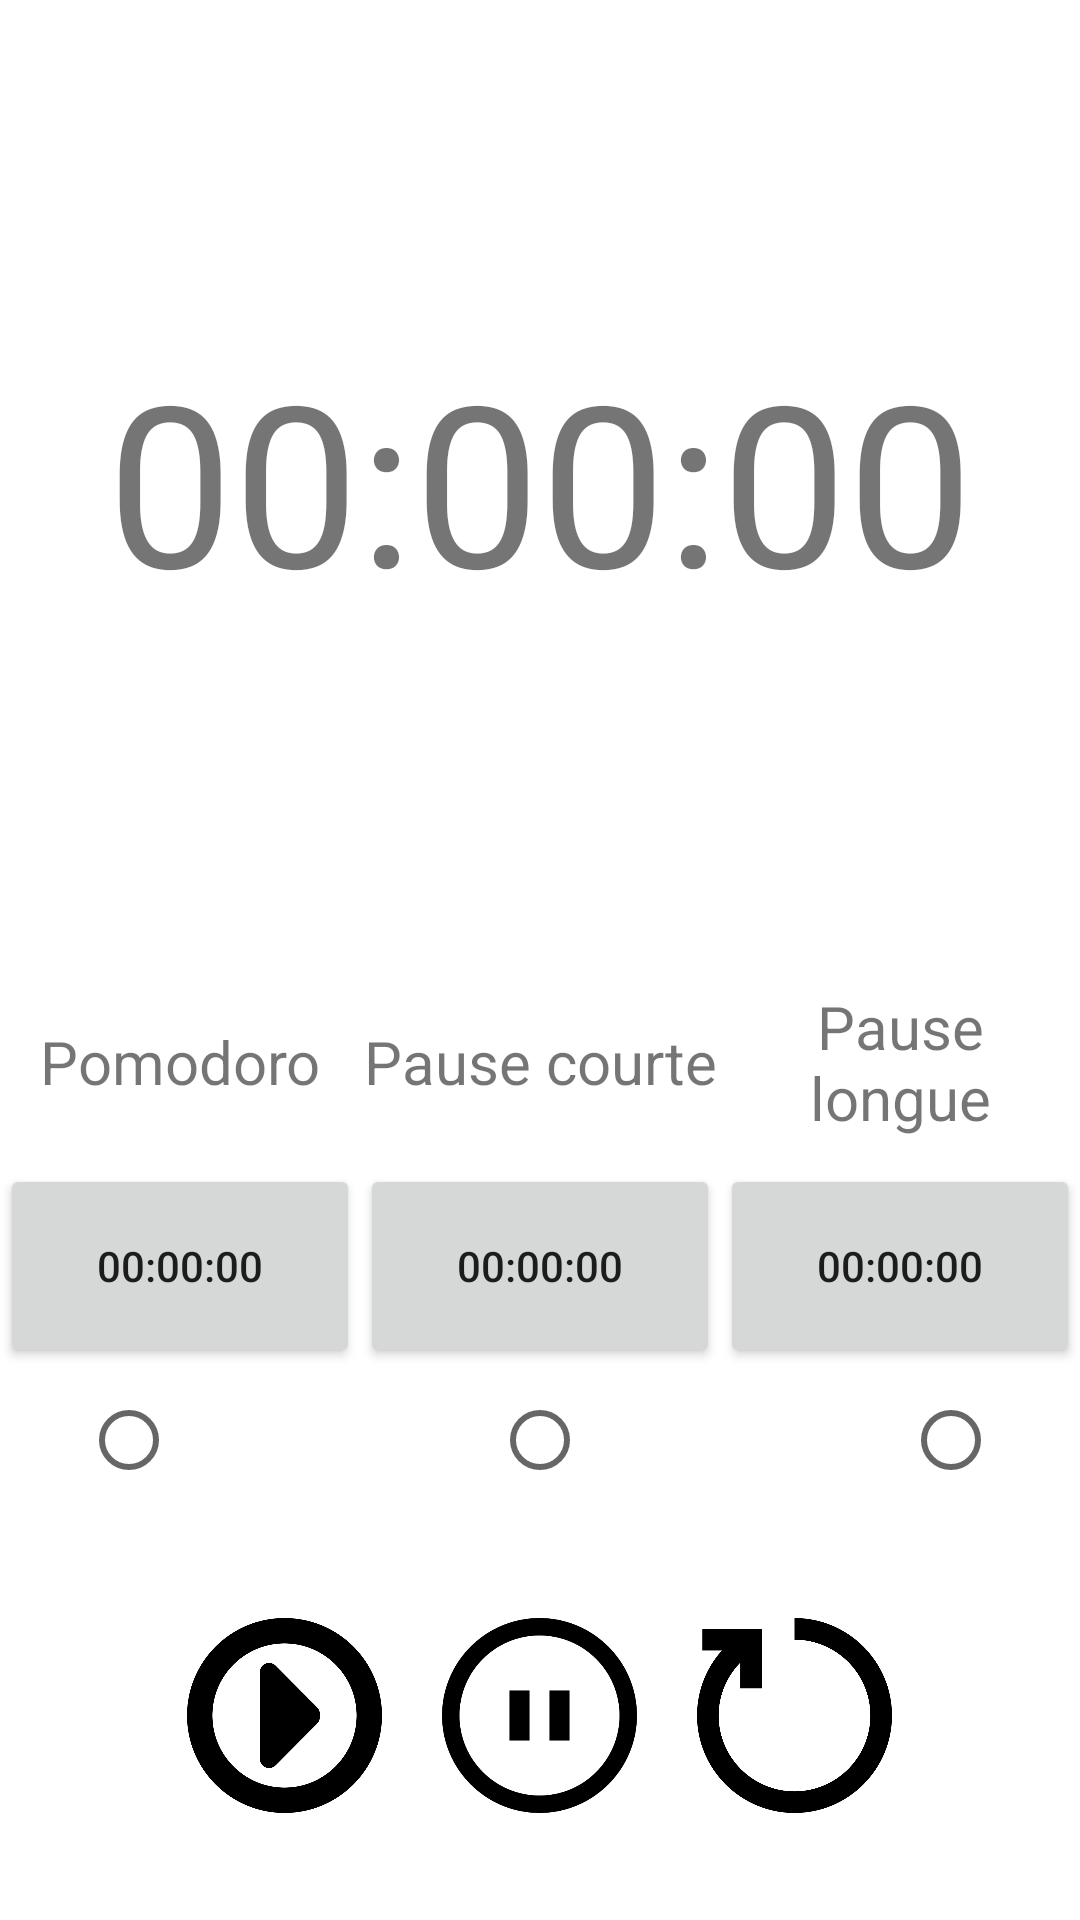

Screen size 1080 x 1920. Icon name, then its center in pixels as (x,y):
pause: (539,1715)
play: (284,1715)
reset: (794,1715)
